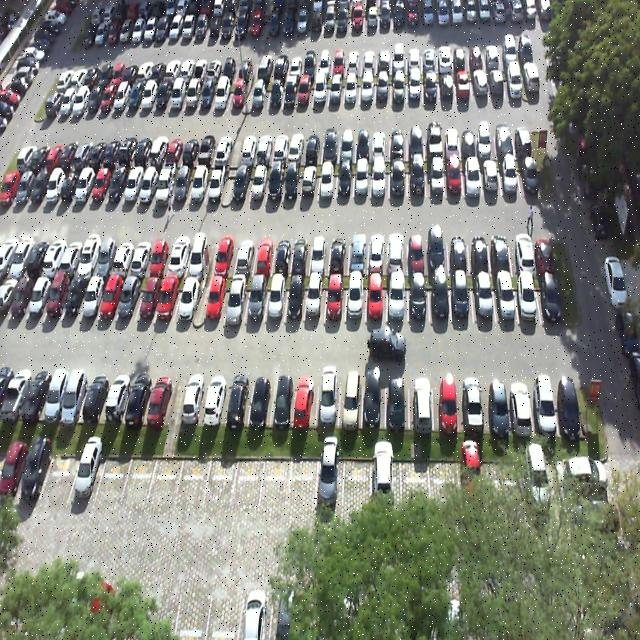empty: (94, 446, 132, 504), (122, 444, 158, 504), (42, 446, 78, 502), (148, 446, 182, 502), (550, 370, 582, 428), (223, 370, 256, 426), (232, 453, 266, 507), (176, 447, 210, 499), (204, 450, 238, 502), (504, 373, 533, 433), (260, 450, 292, 504), (314, 453, 344, 510), (19, 448, 53, 497), (62, 368, 92, 422), (116, 270, 146, 322), (528, 372, 555, 429), (222, 272, 250, 326), (456, 375, 484, 429), (290, 451, 317, 507), (105, 372, 134, 424), (481, 372, 507, 430), (81, 372, 111, 422), (432, 376, 459, 430), (136, 267, 162, 321), (153, 273, 180, 325), (269, 374, 296, 426), (126, 371, 154, 421), (315, 372, 339, 430), (147, 375, 175, 424), (248, 372, 274, 424), (203, 371, 230, 421), (409, 375, 434, 429), (535, 270, 563, 318), (362, 372, 386, 428), (264, 270, 288, 324), (384, 371, 408, 425), (100, 269, 124, 321), (174, 272, 198, 324), (491, 272, 517, 320), (292, 374, 316, 426), (446, 224, 471, 272), (242, 274, 266, 324), (338, 374, 362, 424), (181, 374, 207, 420), (488, 225, 512, 274), (206, 272, 226, 327), (305, 274, 327, 324), (112, 236, 140, 275), (129, 234, 156, 274), (188, 160, 212, 204), (531, 228, 555, 272), (448, 276, 472, 320), (472, 274, 494, 322), (147, 235, 172, 277), (155, 162, 178, 206), (172, 162, 195, 206), (511, 226, 533, 272), (324, 276, 346, 322), (514, 276, 537, 320), (284, 274, 304, 324), (168, 237, 194, 275), (138, 162, 162, 202), (516, 153, 540, 193), (189, 236, 213, 276), (288, 232, 312, 272), (429, 227, 449, 275), (468, 227, 489, 272), (408, 224, 428, 271), (408, 273, 428, 320), (232, 160, 254, 202), (385, 230, 407, 272), (230, 236, 253, 276), (366, 276, 386, 322), (430, 276, 450, 322), (387, 275, 406, 322), (205, 164, 227, 204), (347, 230, 367, 274), (214, 238, 237, 275), (309, 232, 330, 272), (253, 233, 275, 271), (348, 275, 366, 321), (270, 235, 292, 272), (370, 159, 390, 198), (327, 233, 347, 272), (367, 233, 387, 272), (268, 162, 286, 205), (284, 160, 302, 202), (252, 162, 270, 202), (302, 162, 320, 202), (463, 159, 483, 195), (483, 155, 501, 195), (499, 157, 519, 193), (335, 162, 353, 200), (408, 160, 426, 196), (426, 160, 444, 196), (391, 159, 407, 198), (444, 159, 462, 193), (318, 163, 334, 199), (354, 161, 370, 195)
occupied: (69, 448, 105, 503)
